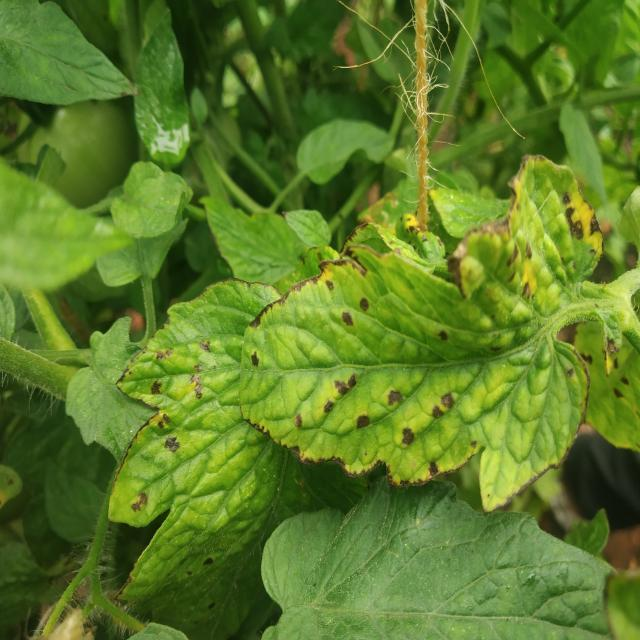Tomato mosaic virus leaf: (232, 150, 624, 518), (102, 299, 238, 631)
